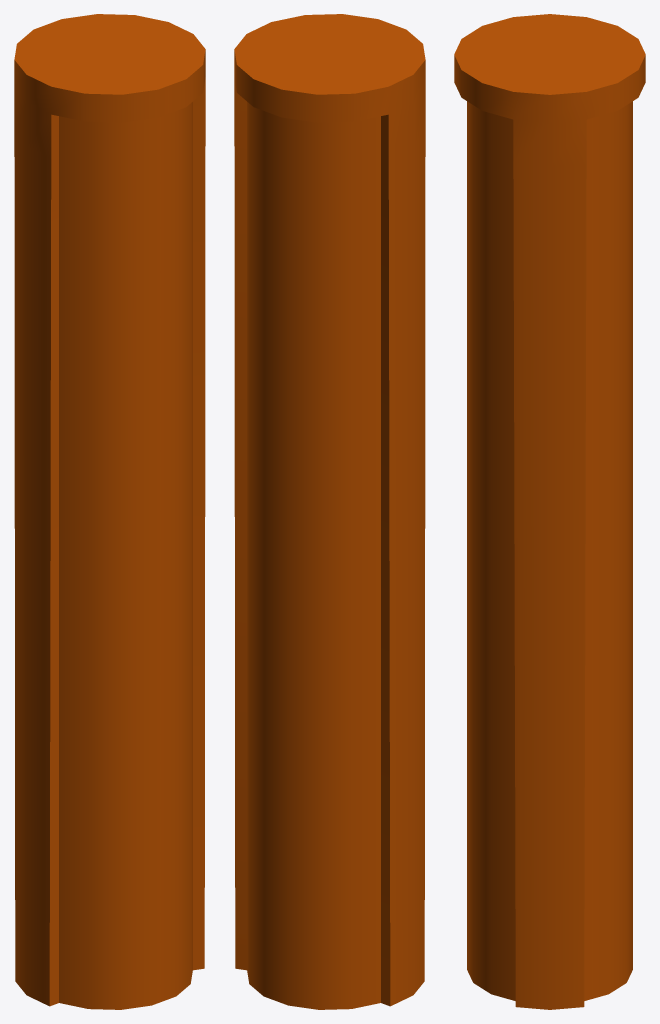
File: biru5_ta.fbx
The picture shows the model from 3 angles, left to right: view 1: azimuth 30°, elevation 25°; view 2: azimuth 150°, elevation 25°; view 3: azimuth 270°, elevation 25°; orthographic projection.
Visible parts, largest first — view 1: ta_biru5_o2; view 2: ta_biru5_o2; view 3: ta_biru5_o2.
Boxes of the visible parts, x1,y1,x2,y2 form: ta_biru5_o2: (14, 14, 205, 1009); ta_biru5_o2: (234, 14, 425, 1009); ta_biru5_o2: (454, 14, 645, 1009).
Size of the model in its own units: 92.24 by 486 by 92.24.
